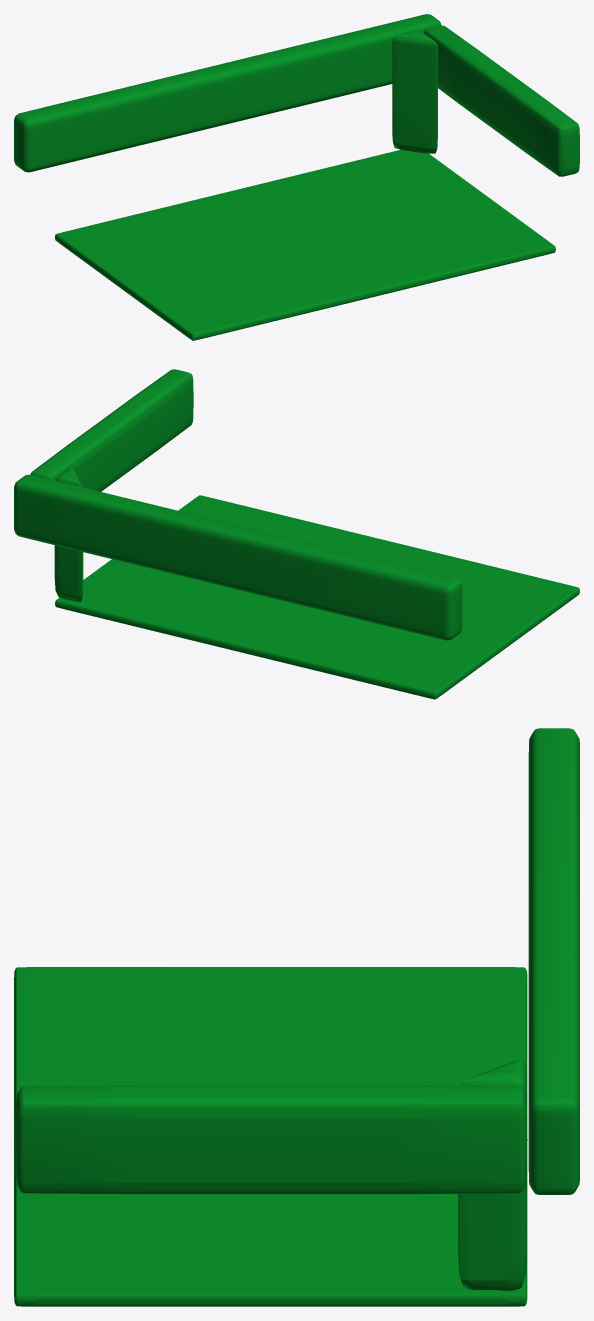
Rendered from MD_Env_Crate_low1.fbx.
3 views of the same model, one above another, from view 1: azimuth 30°, elevation 25°; view 2: azimuth 150°, elevation 25°; view 3: azimuth 270°, elevation 25° (orthographic). The views are drawn at different scales.
Parts seen in each view (by area): view 1: MD_Env_CrateBot_low, MD_Env_CrateLenTop_low, MD_Env_CrateWidTop_low, MD_Env_CrateSupportB_low; view 2: MD_Env_CrateBot_low, MD_Env_CrateLenTop_low, MD_Env_CrateWidTop_low, MD_Env_CrateSupportB_low; view 3: MD_Env_CrateBot_low, MD_Env_CrateWidTop_low, MD_Env_CrateLenTop_low, MD_Env_CrateSupportB_low.
Boxes of the visible parts, <box> form: MD_Env_CrateBot_low: <box>55,149,555,340</box>; MD_Env_CrateLenTop_low: <box>14,14,441,172</box>; MD_Env_CrateWidTop_low: <box>424,25,579,176</box>; MD_Env_CrateSupportB_low: <box>392,30,437,153</box>; MD_Env_CrateBot_low: <box>55,495,579,699</box>; MD_Env_CrateLenTop_low: <box>14,474,462,640</box>; MD_Env_CrateWidTop_low: <box>30,369,193,491</box>; MD_Env_CrateSupportB_low: <box>54,466,83,601</box>; MD_Env_CrateBot_low: <box>14,967,527,1306</box>; MD_Env_CrateWidTop_low: <box>15,1085,527,1194</box>; MD_Env_CrateLenTop_low: <box>528,728,579,1194</box>; MD_Env_CrateSupportB_low: <box>458,1059,526,1290</box>.
Size of the model in its own units: 26.16 by 7.45 by 16.53.
